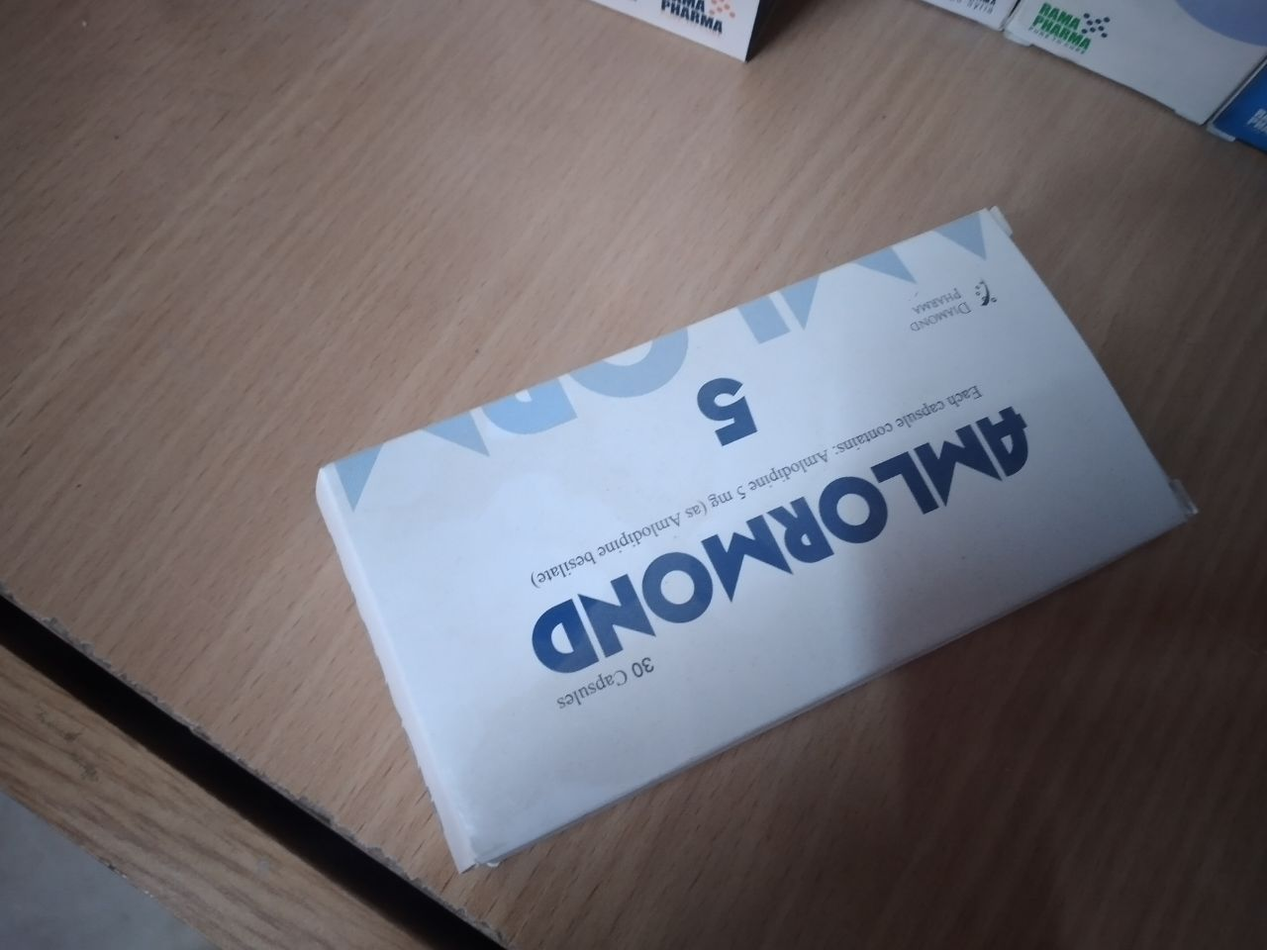Medicine: (312, 178, 1225, 886)
